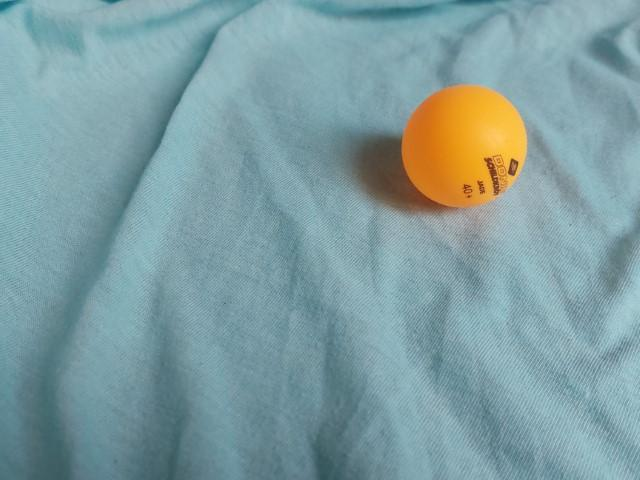oball: (394, 77, 538, 218)
